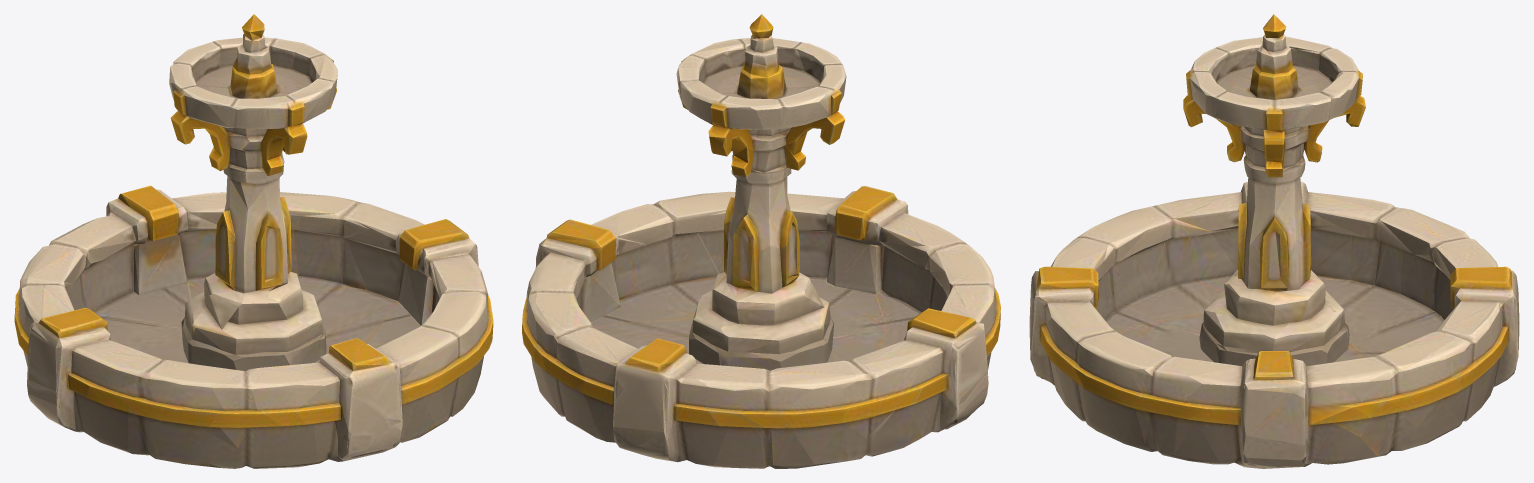
Rendered from fountain.glb.
3 views of the same model, side by side, from view 1: azimuth 30°, elevation 25°; view 2: azimuth 150°, elevation 25°; view 3: azimuth 270°, elevation 25° (orthographic).
Size of the model in its own units: 1.89 by 1.55 by 1.89.
1 material, 1 textured.
